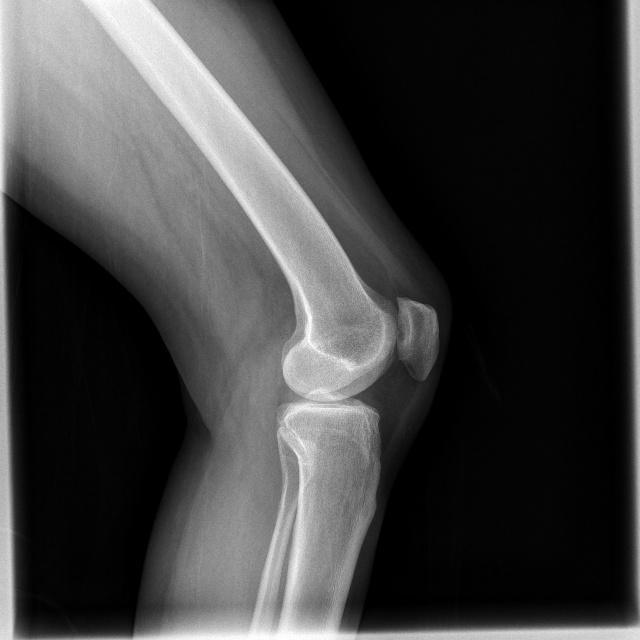Knee: (270, 292, 439, 476)
